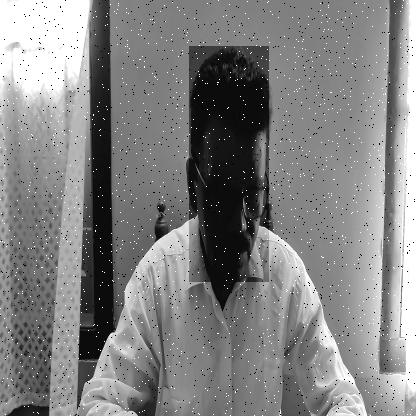Distracted: (189, 46, 269, 282)
